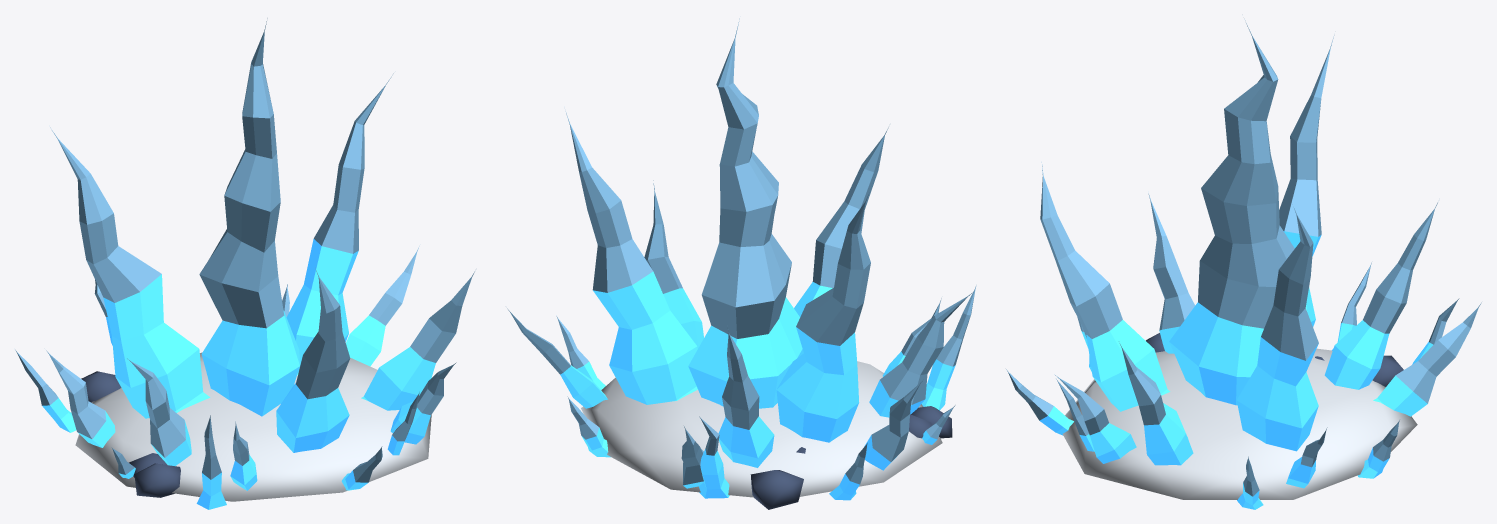
File: ice_spike_a.glb
The picture shows the model from 3 angles, left to right: view 1: azimuth 30°, elevation 25°; view 2: azimuth 150°, elevation 25°; view 3: azimuth 270°, elevation 25°; orthographic projection. The views are drawn at different scales.
Parts seen in each view (by area): view 1: ice_spike_a; view 2: ice_spike_a; view 3: ice_spike_a.
Boxes of the visible parts, x1,y1,x2,y2 form: ice_spike_a: [15, 18, 474, 509]; ice_spike_a: [507, 18, 976, 509]; ice_spike_a: [1006, 19, 1481, 509].
Size of the model in its own units: 5.43 by 5.36 by 5.52.
